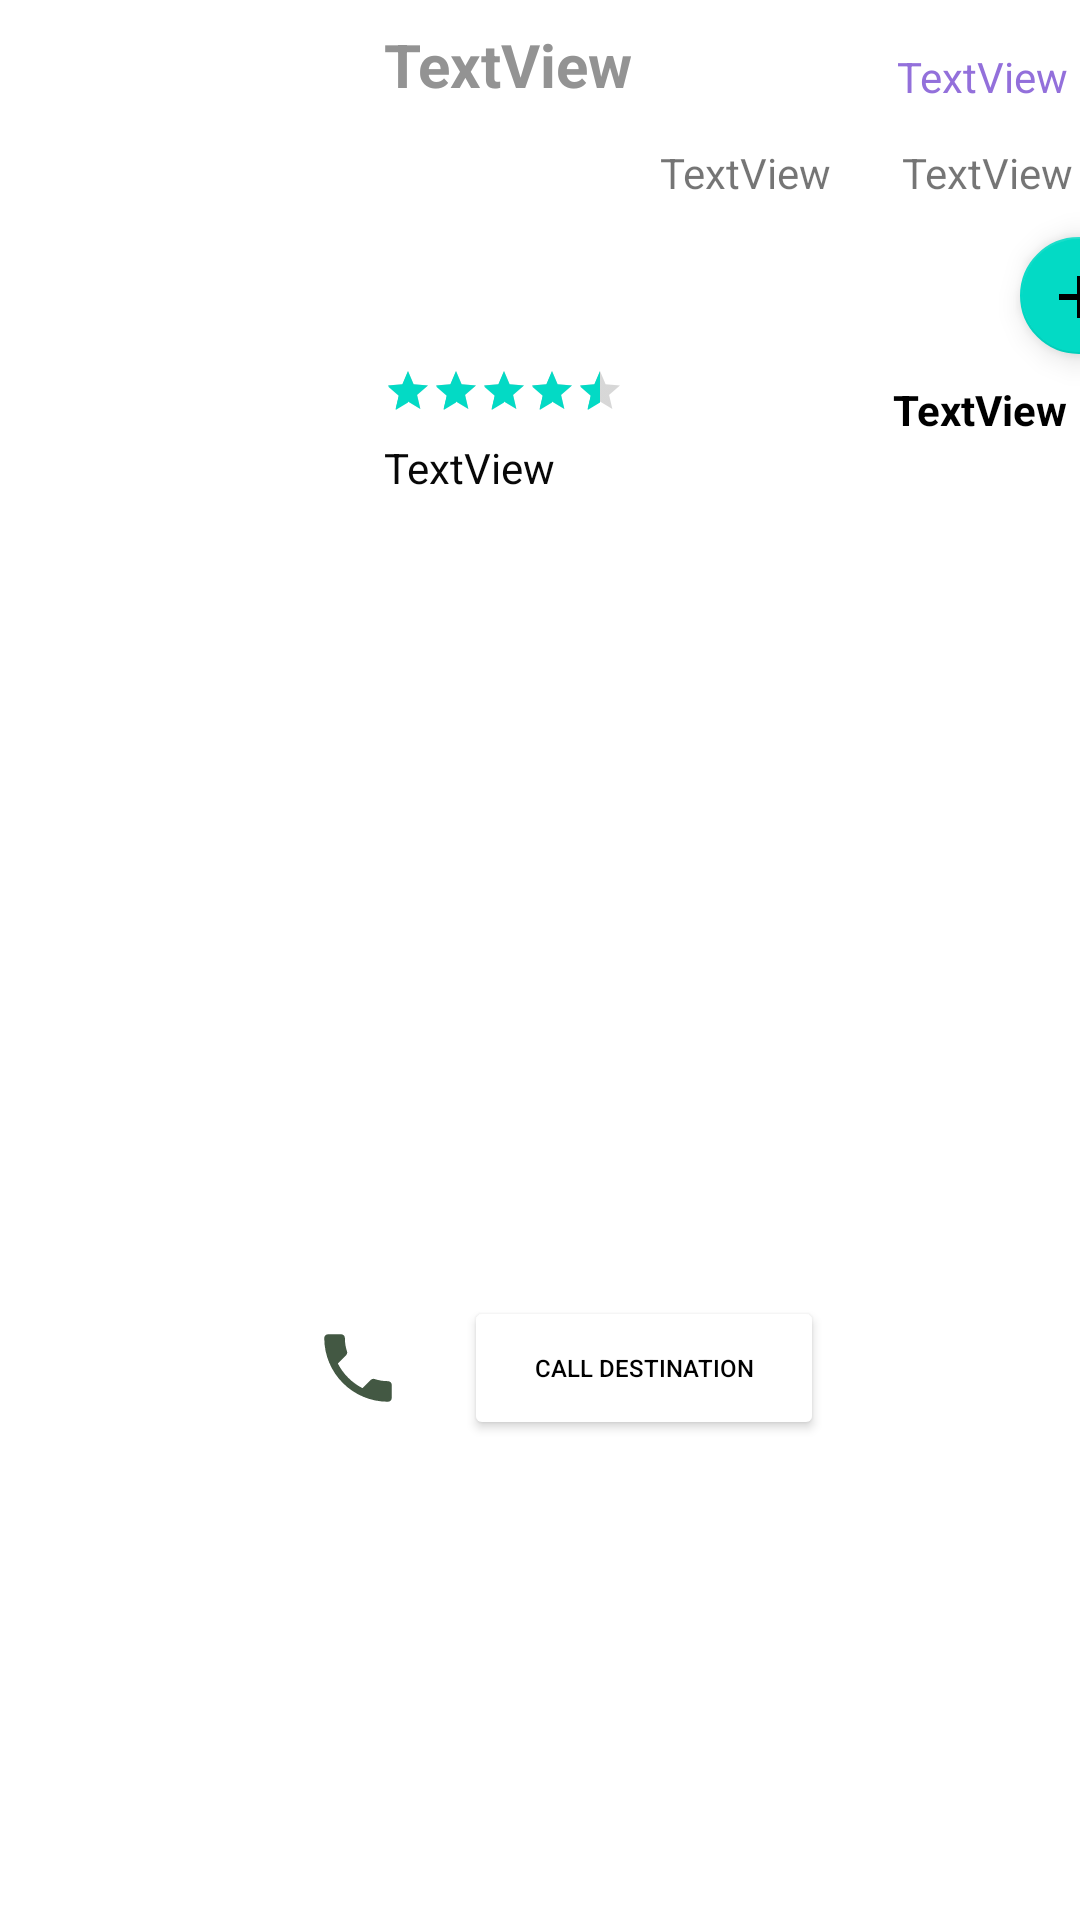

Screen size 1080*1920. Icon name, then its box in pixels as bbox=[x1, y1, x2, y2]:
local phone: bbox=[324, 1334, 392, 1402]
